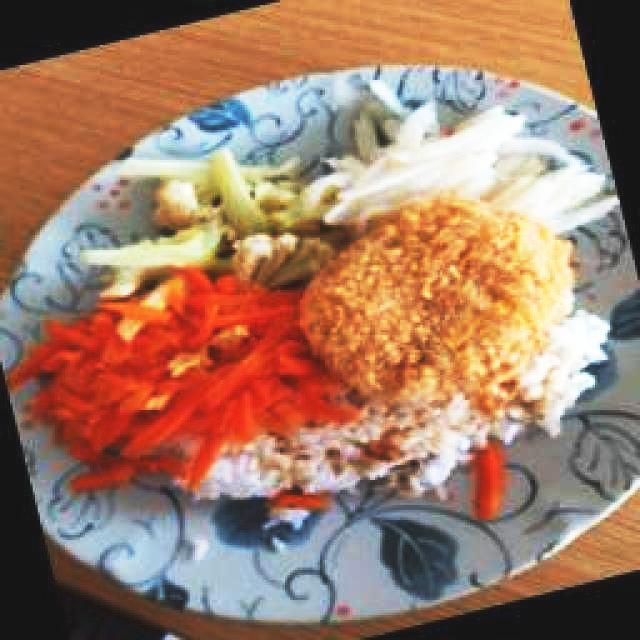carrot_eggs: (12, 267, 354, 499)
chicken_nuggets: (294, 191, 577, 405)
rice: (356, 417, 502, 472), (224, 443, 324, 500), (557, 322, 607, 386)
